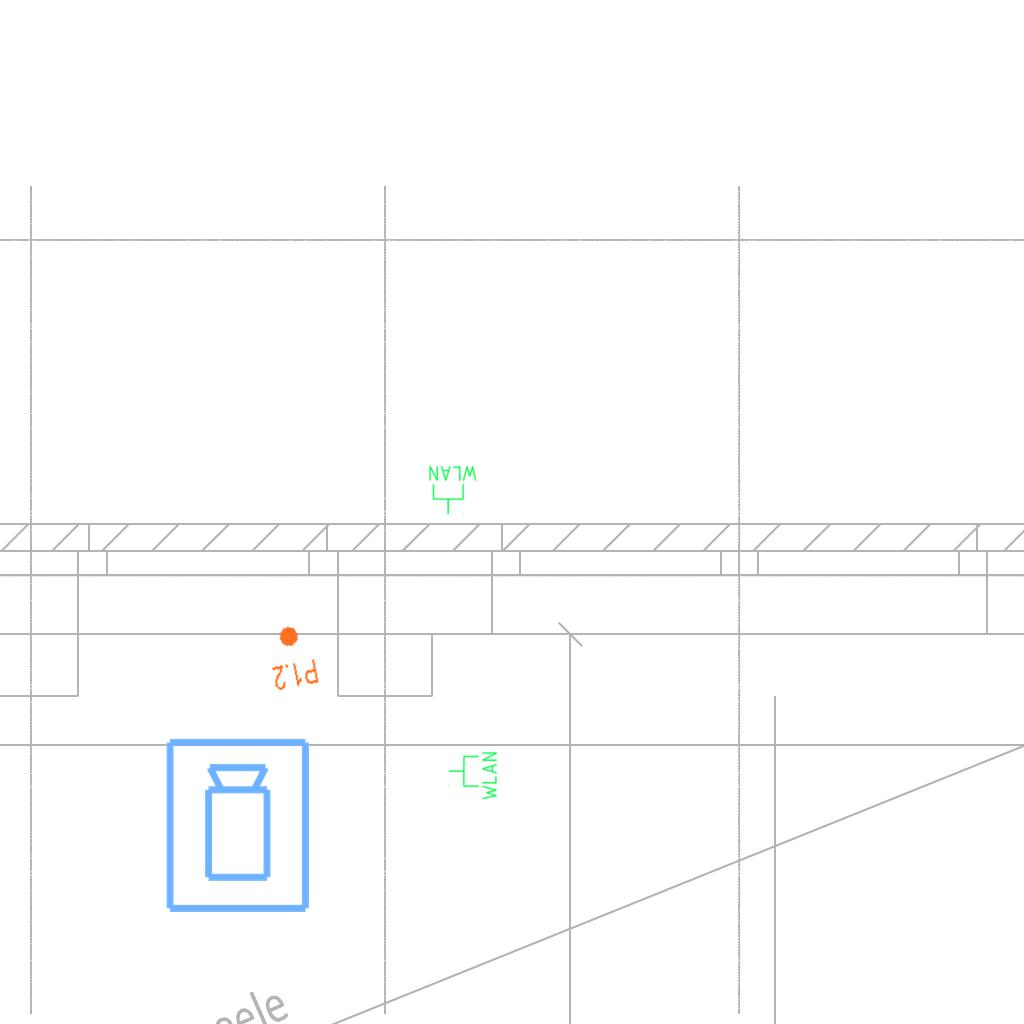Downlight_LED_Einbauleuchten_Flur: (263, 621, 321, 693)
KFO_Kamera_mit_Festobjektiv: (162, 735, 316, 917)
WLAN: (447, 750, 499, 802), (427, 464, 479, 516)
